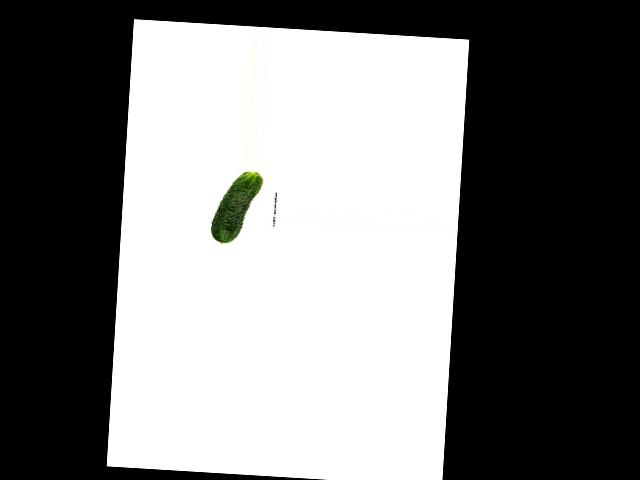cucumber: (210, 169, 263, 245)
